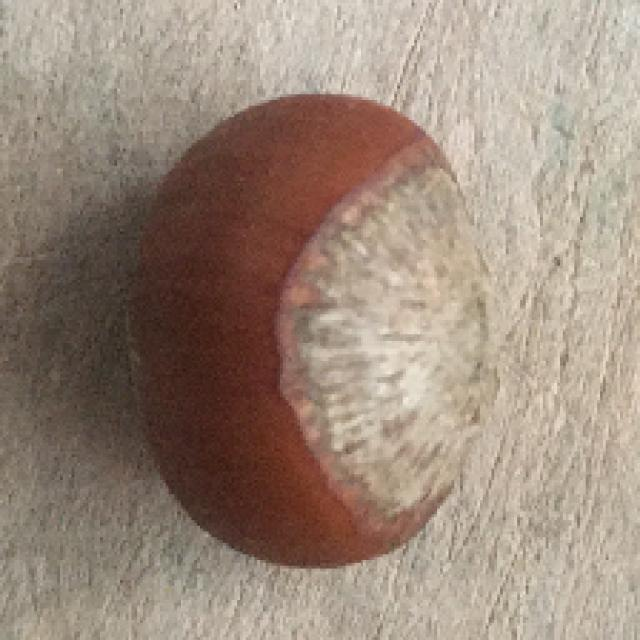qualityHazelnut: (123, 84, 498, 573)
